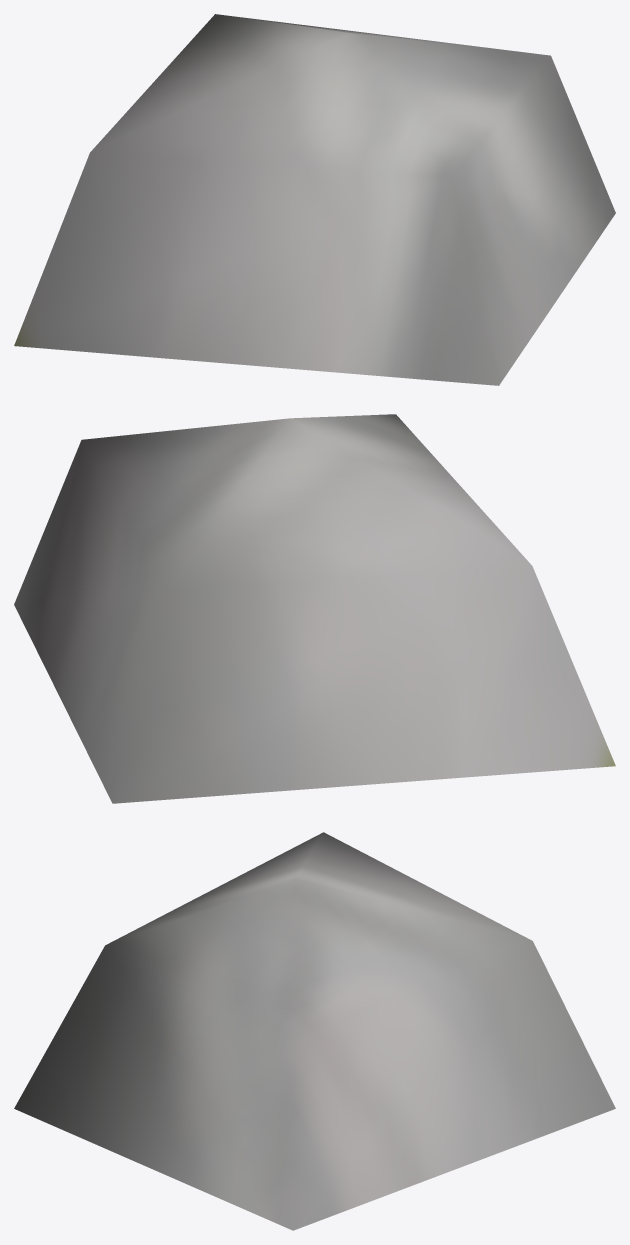
Rendered from Stone01.fbx.
3 views of the same model, one above another, from view 1: azimuth 30°, elevation 25°; view 2: azimuth 150°, elevation 25°; view 3: azimuth 270°, elevation 25° (orthographic). The views are drawn at different scales.
Visible parts, largest first — view 1: pCube3; view 2: pCube3; view 3: pCube3.
Part boxes in pixels (x1,y1,x2,y2): pCube3: (14, 14, 615, 385); pCube3: (14, 414, 615, 803); pCube3: (14, 832, 615, 1230).
Bounding box in the file's own units: 0.2078 × 0.0822 × 0.1951.
